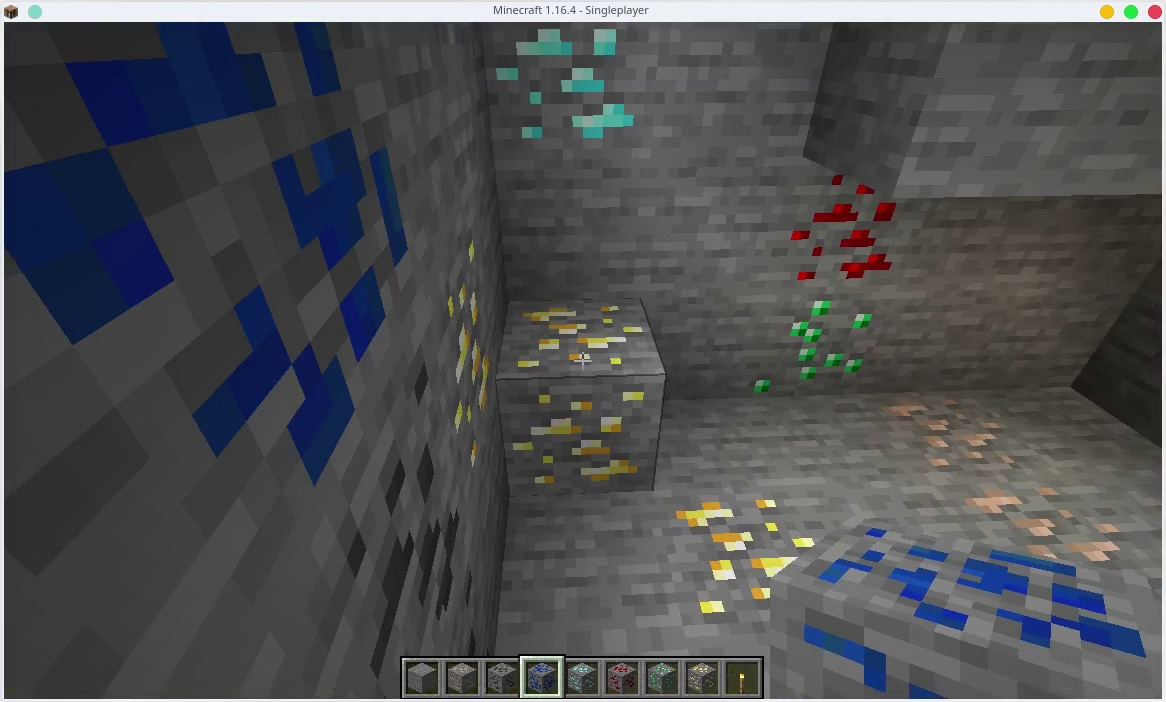gold: (505, 304, 667, 497), (673, 491, 776, 613), (451, 237, 487, 459), (690, 664, 715, 691)
